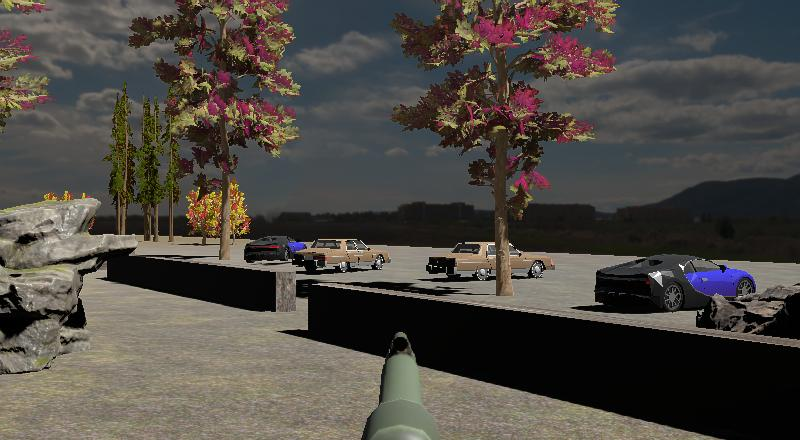car: (592, 250, 760, 314), (423, 240, 558, 282), (292, 238, 392, 273), (242, 236, 293, 263)
